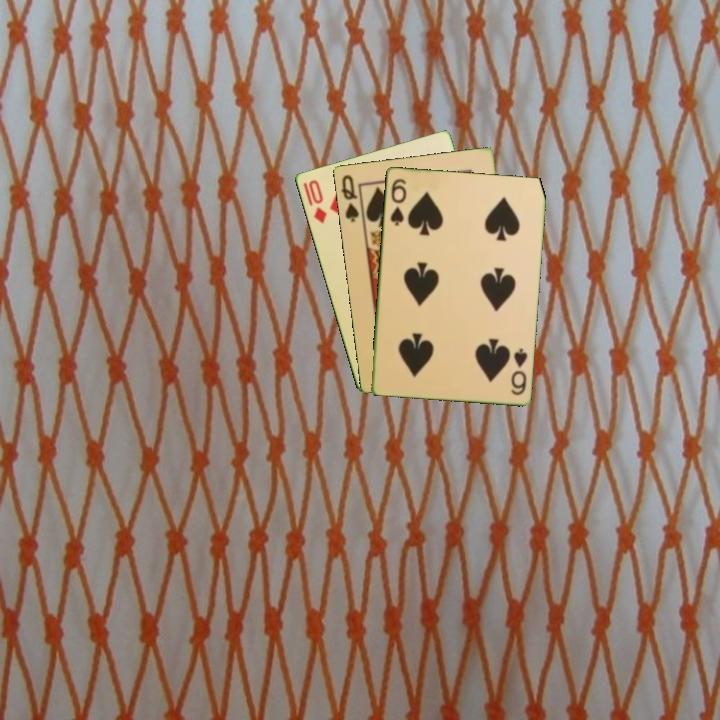10d: (299, 176, 329, 226)
6s: (507, 344, 530, 397), (387, 175, 409, 228)
Qs: (337, 171, 361, 225)
